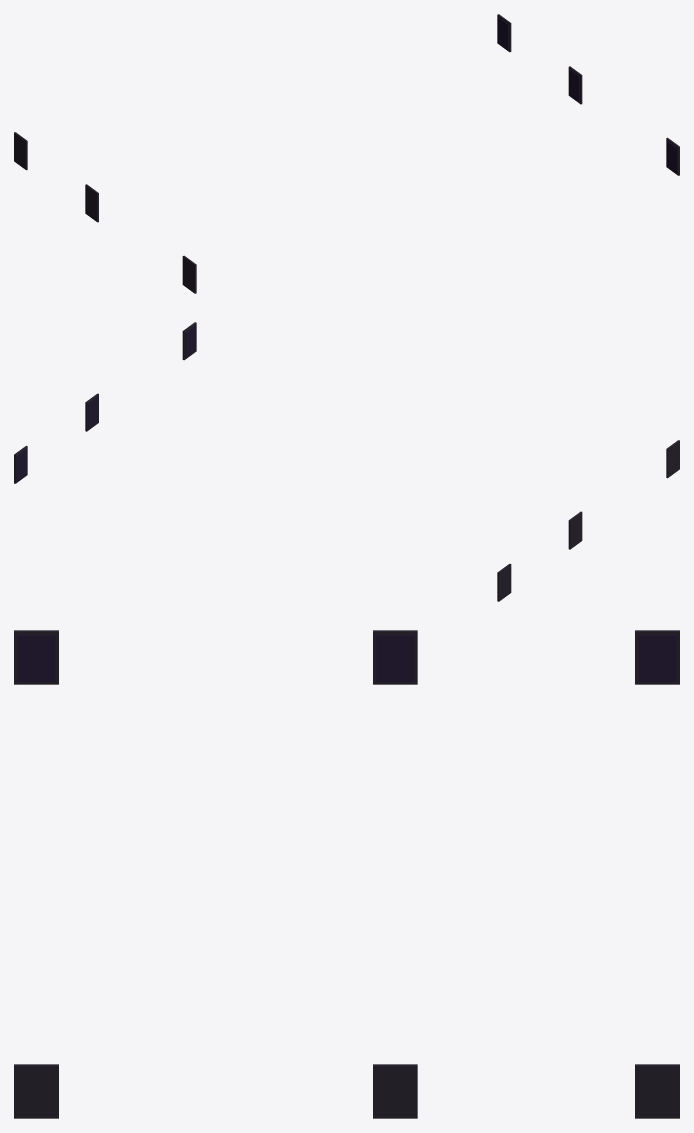
File: Posters.fbx
3 renders of one model, top to bottom at view 1: azimuth 30°, elevation 25°; view 2: azimuth 150°, elevation 25°; view 3: azimuth 270°, elevation 25°, orthographic. The views are drawn at different scales.
Visible parts, largest first — view 1: PosterFrame-1_60.001; view 2: PosterFrame-1_60.001; view 3: PosterFrame-1_60.001.
Part boxes in pixels (bbox=[...]): PosterFrame-1_60.001: bbox=[14, 14, 679, 293]; PosterFrame-1_60.001: bbox=[14, 322, 679, 601]; PosterFrame-1_60.001: bbox=[14, 630, 679, 1118].
Size of the model in its own units: 14930 by 850 by 9650.
